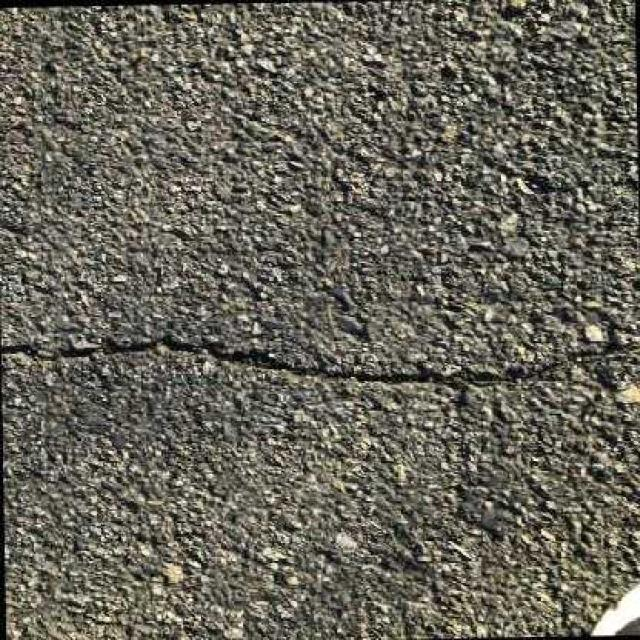D00: (0, 335, 615, 382)
